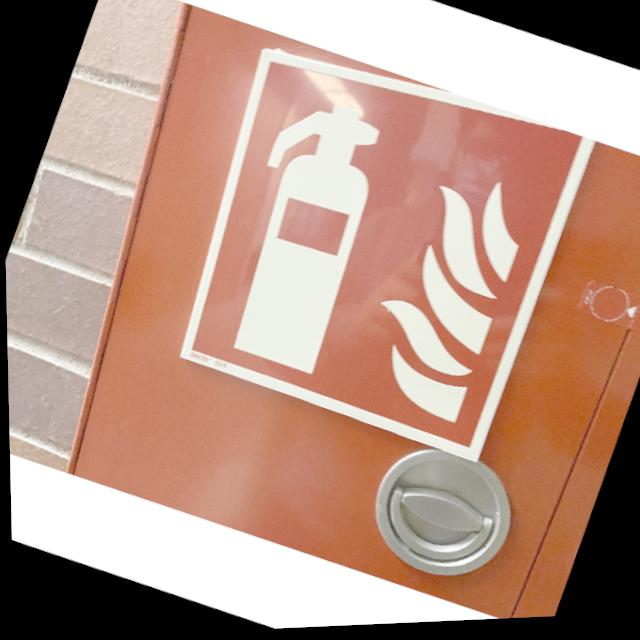fire extinguisher: (146, 22, 597, 476)
